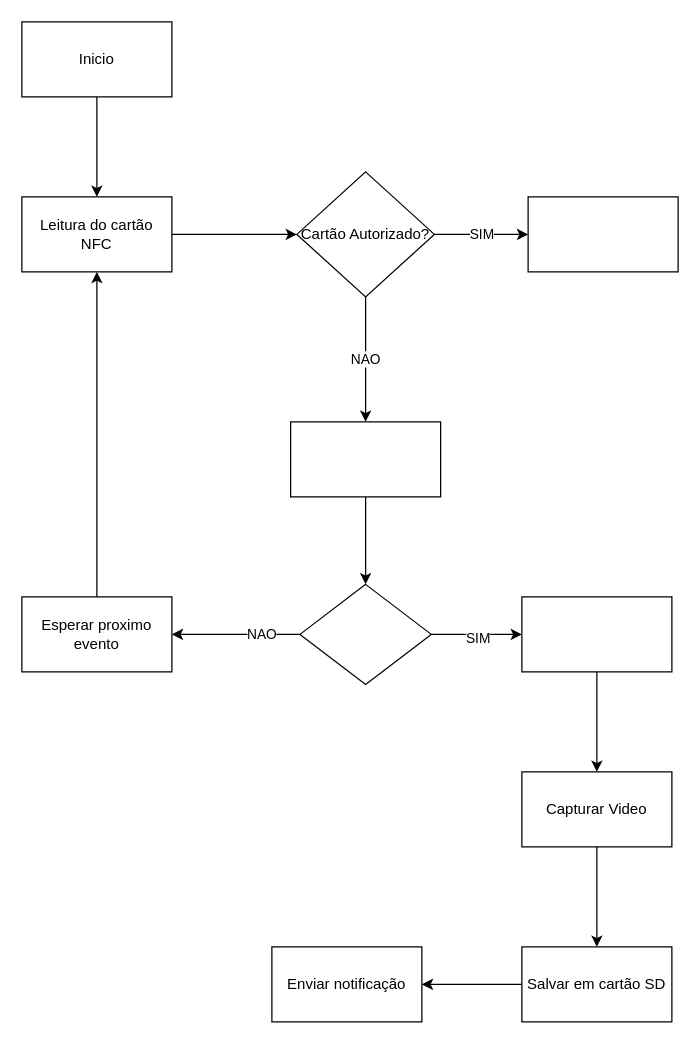
The diagram is 700 pixels wide and 1044 high, and some of its shapes have lost their labels. The centre of each missing label's shape, as x and y in pixels:
"Acionar ESPCAM" goes at point 596,634.
"Liberar acesso" goes at point 602,234.
"Movimento detectado?" goes at point 365,633.
"Verificar sensor PIR" goes at point 365,459.
